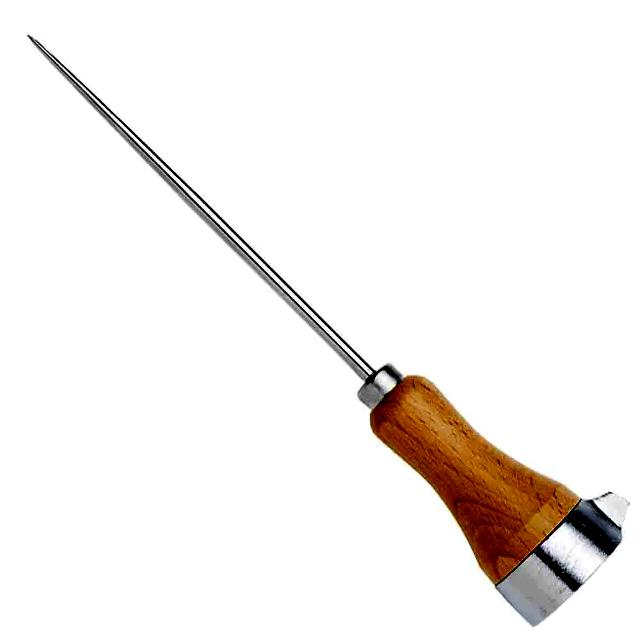ice pick: (18, 29, 630, 630)
